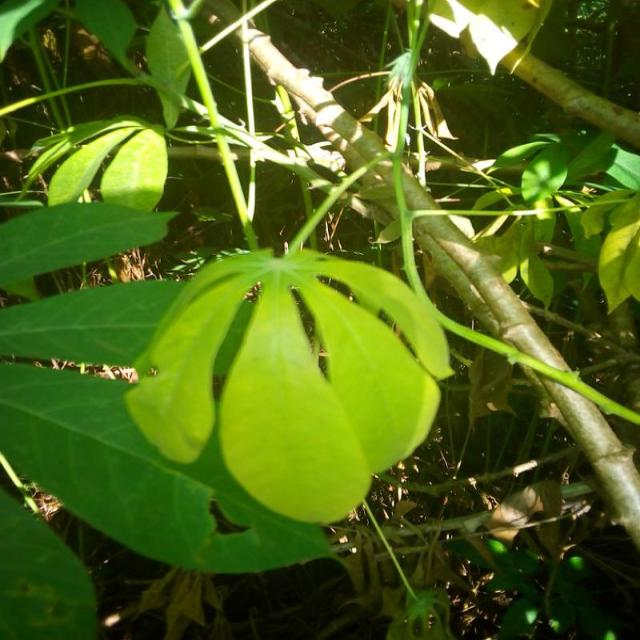cassava leaf: (124, 243, 454, 525), (1, 359, 338, 574), (47, 122, 170, 212)
